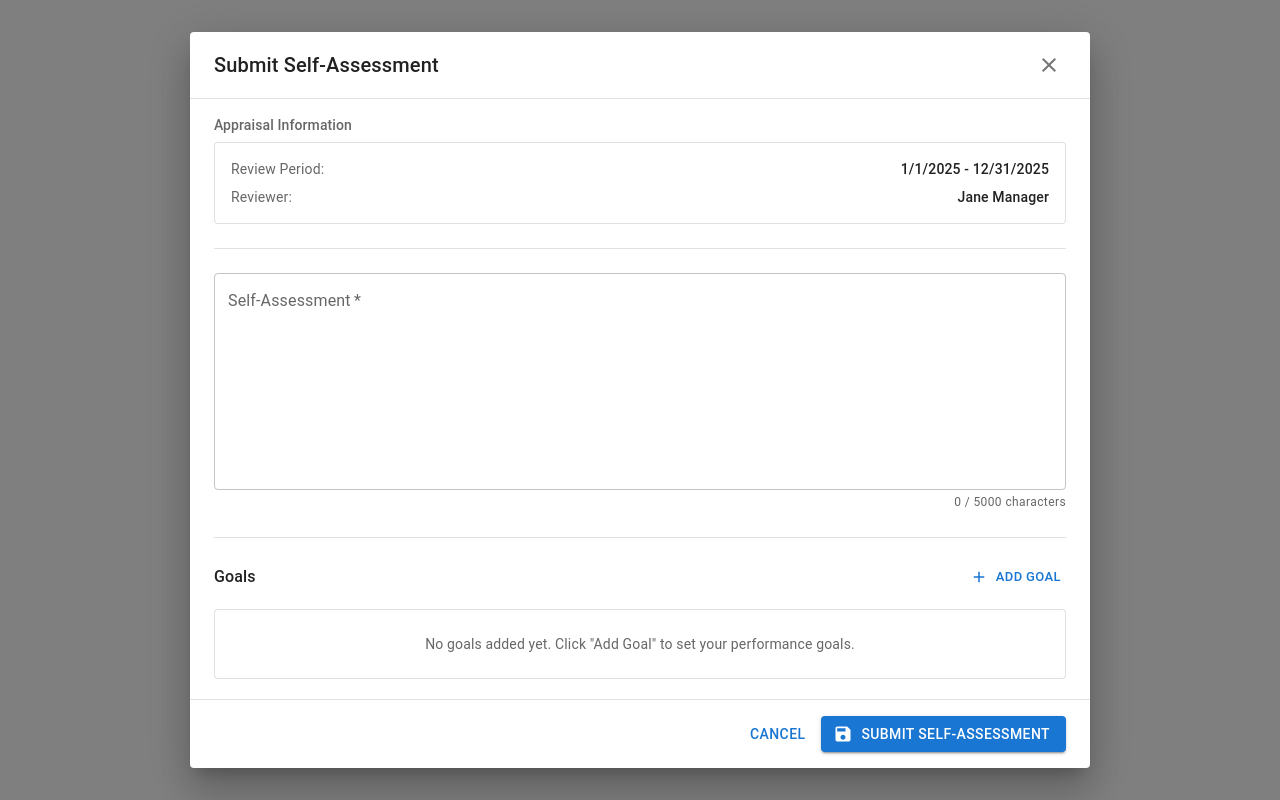
Test: SelfAssessmentForm › Field Validation › validates required self-assessment field
The image size is (1280, 800).
Try to submit without entering assessment
Step 1. Click the button "Submit Self-Assessment" → (944, 734), box [821,716,1066,752]
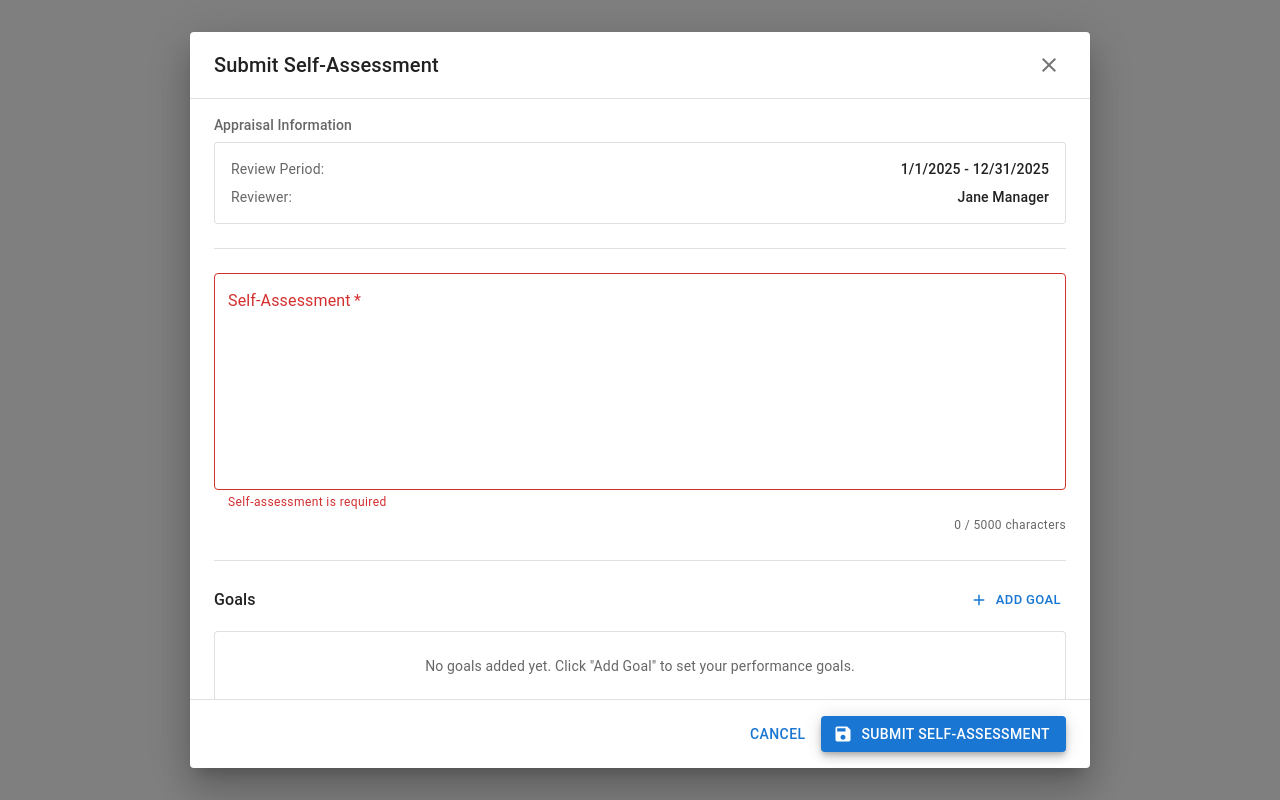
Result: the text "Self-assessment is required" is shown at [228,495,387,509]
